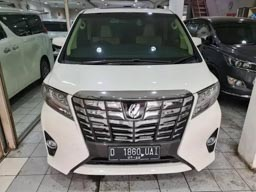plat: (108, 145, 160, 155)
